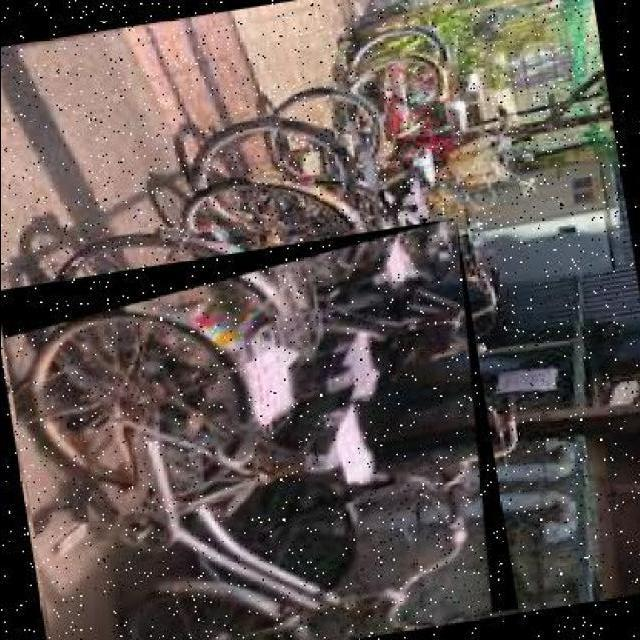bicycle: (2, 218, 519, 640)
